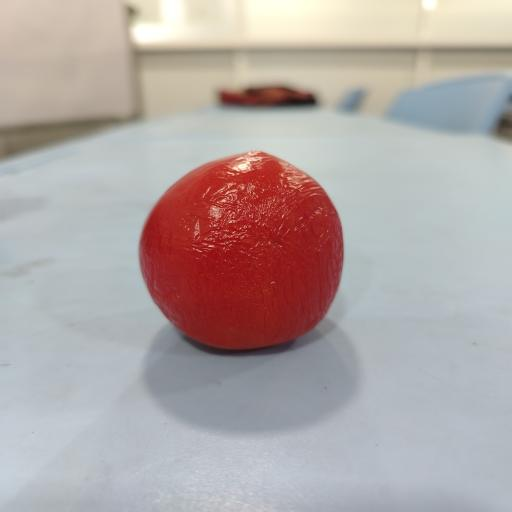spoiled: (140, 151, 343, 349)
